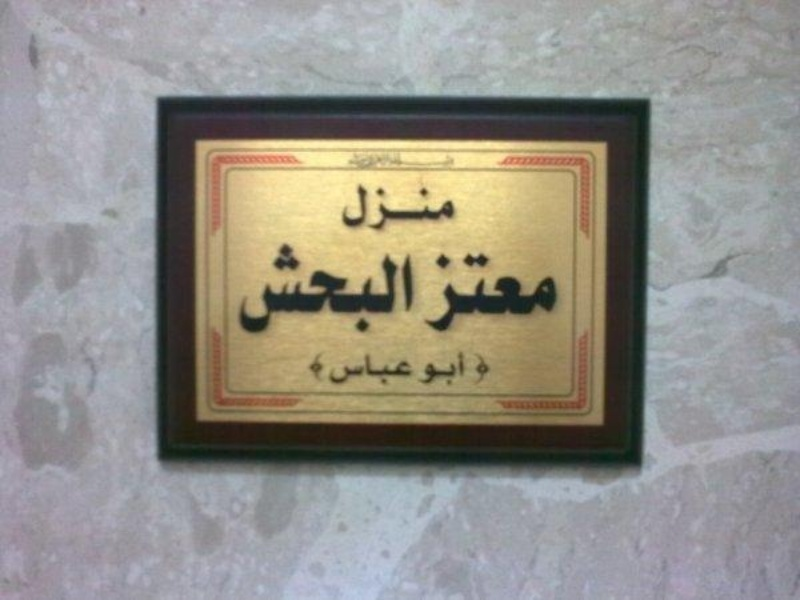text: (241, 241, 256, 337), (257, 241, 272, 337), (273, 241, 288, 337), (289, 241, 304, 337), (305, 241, 320, 337), (321, 241, 336, 337), (337, 241, 352, 337), (353, 241, 368, 337), (369, 241, 384, 337), (385, 241, 400, 337), (401, 241, 416, 337), (433, 250, 448, 333), (449, 250, 464, 333), (465, 250, 480, 333), (481, 250, 496, 333), (497, 250, 512, 333), (513, 250, 528, 333), (529, 250, 544, 333), (545, 250, 560, 333), (353, 179, 368, 233), (369, 179, 384, 233), (385, 179, 400, 233), (401, 179, 416, 233), (417, 179, 432, 233), (433, 179, 448, 233), (339, 179, 352, 233), (337, 351, 352, 387), (353, 351, 368, 387), (369, 351, 384, 387), (385, 351, 400, 387), (433, 351, 448, 386), (449, 351, 464, 386), (235, 241, 240, 337), (401, 351, 413, 387), (421, 351, 432, 386), (449, 179, 456, 233), (353, 151, 368, 171), (369, 151, 384, 171), (385, 151, 400, 171), (401, 151, 416, 171), (417, 151, 432, 171), (433, 151, 448, 171), (449, 151, 459, 171), (345, 151, 352, 171), (333, 351, 336, 387), (417, 241, 418, 337), (561, 250, 562, 333), (465, 351, 467, 386)
